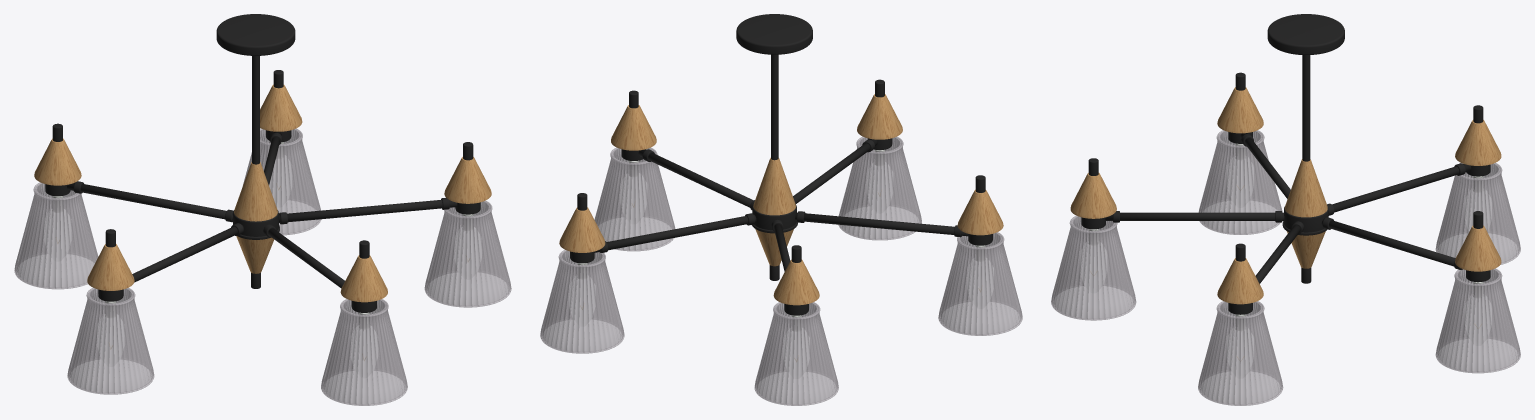
3 views of the same model, side by side, from view 1: azimuth 30°, elevation 25°; view 2: azimuth 150°, elevation 25°; view 3: azimuth 270°, elevation 25° (orthographic). The views are drawn at different scales.
Visible parts, largest first — view 1: glass, black, wood; view 2: glass, black, wood, bulb0_cap; view 3: glass, black, wood, bulb0_cap.
Boxes of the visible parts, x1,y1,x2,y2 form: glass: (14, 128, 511, 405); black: (45, 14, 480, 312); wood: (34, 84, 491, 302); glass: (540, 136, 1022, 405); black: (570, 14, 992, 315); wood: (559, 94, 1003, 305); bulb0_cap: (577, 149, 985, 331); glass: (1051, 130, 1520, 405); black: (1081, 14, 1490, 314); wood: (1070, 87, 1501, 304); bulb0_cap: (1088, 143, 1483, 330).
Bounding box in the file's own units: 0.6333 × 0.39 × 0.6077.
Materials: 7 (7 with a texture image).
